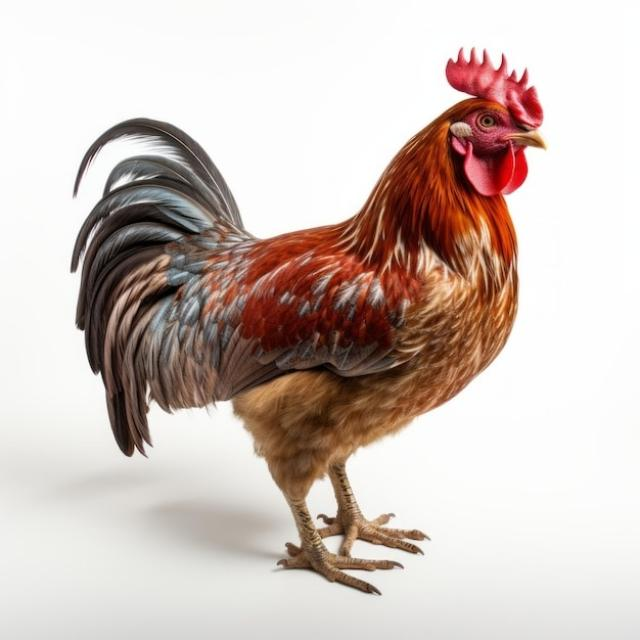Chicken: (73, 46, 546, 598)
